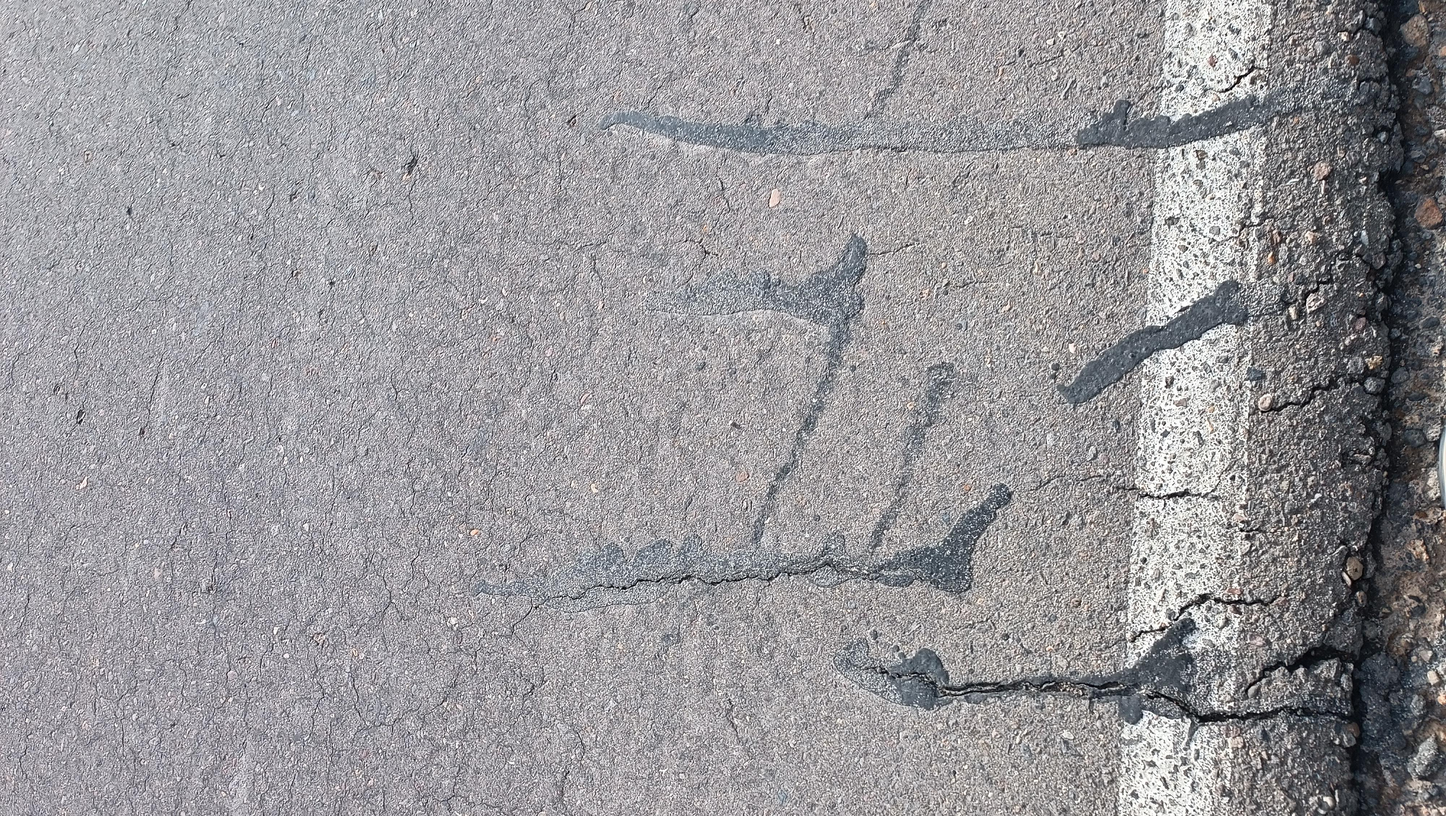GRIETA: (866, 666, 1347, 726), (557, 558, 845, 603), (1124, 593, 1291, 644), (1241, 644, 1357, 699), (1029, 474, 1225, 504)
PIEL DE COCODRILO: (0, 0, 615, 816)
